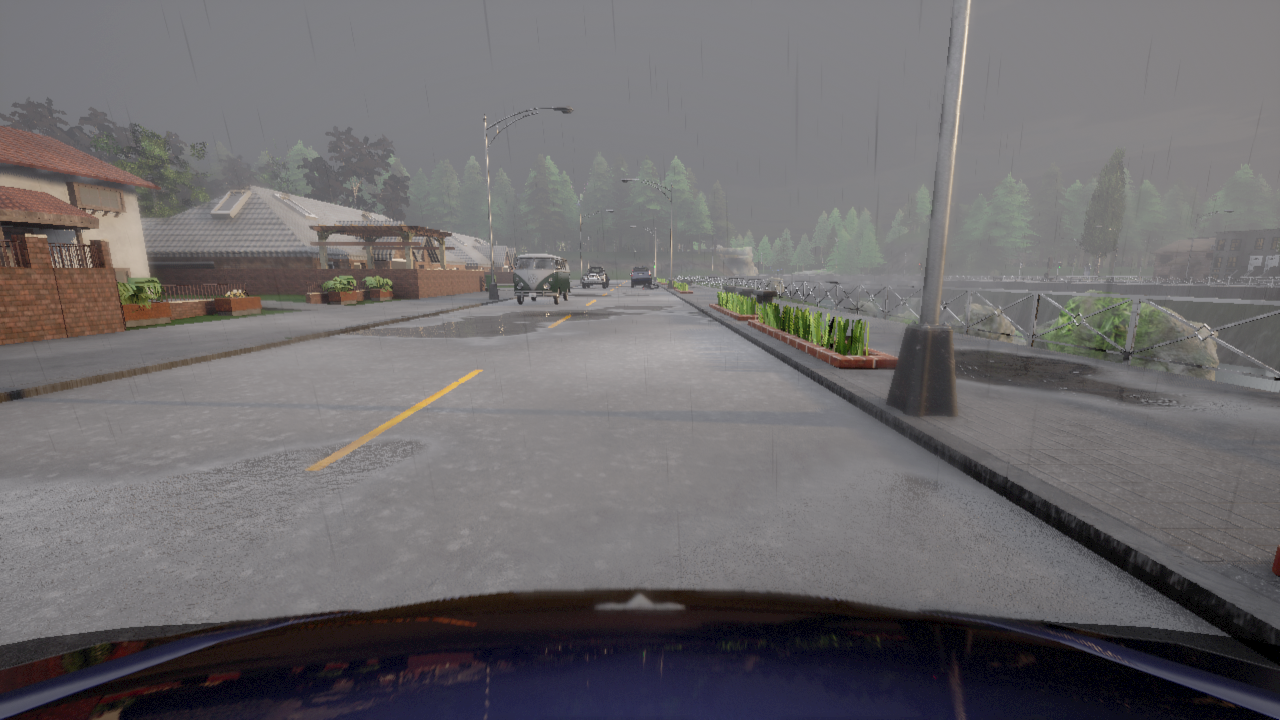cyclist: (0, 588, 1279, 719), (511, 253, 570, 303), (582, 266, 608, 288), (630, 266, 651, 287), (590, 277, 609, 285), (640, 283, 658, 288)
